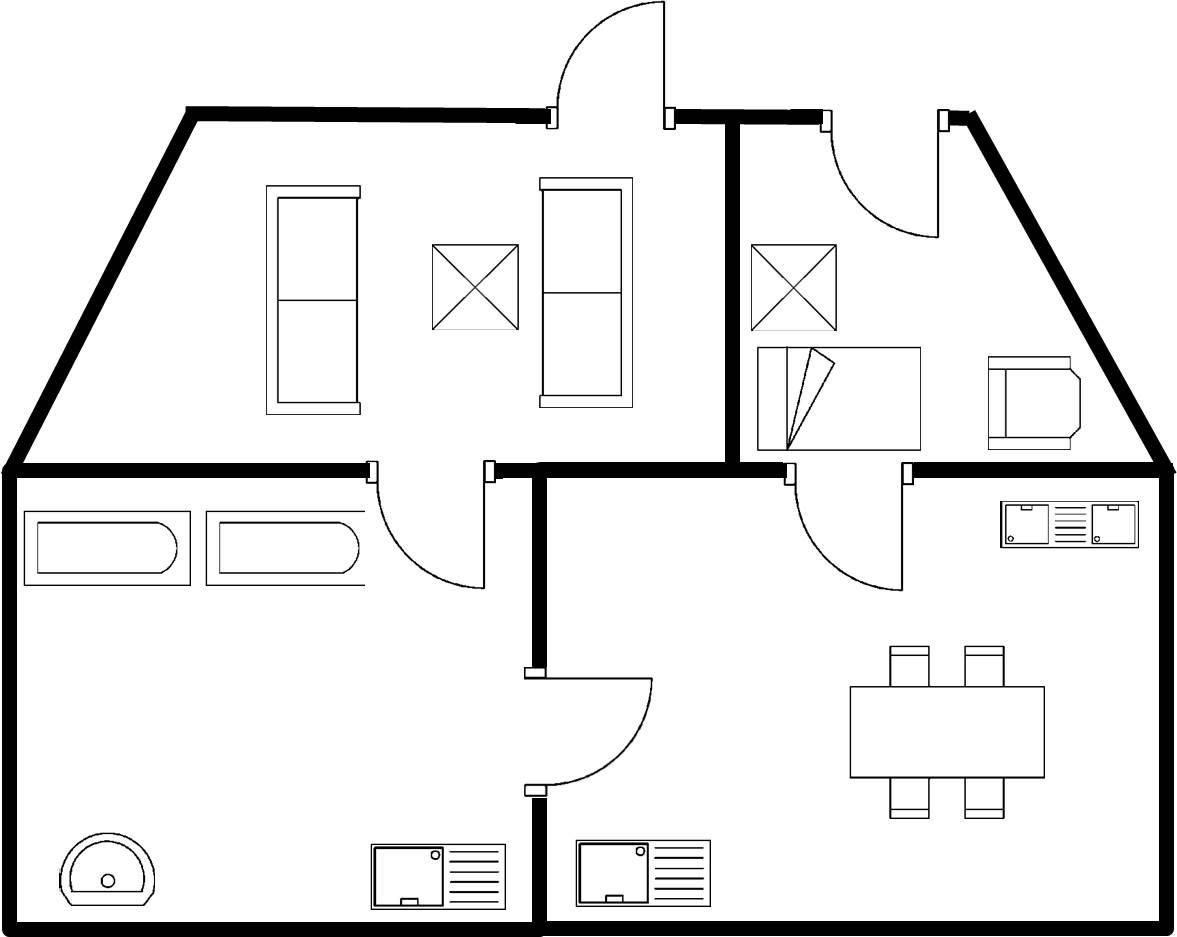sink: (990, 492, 1143, 559)
